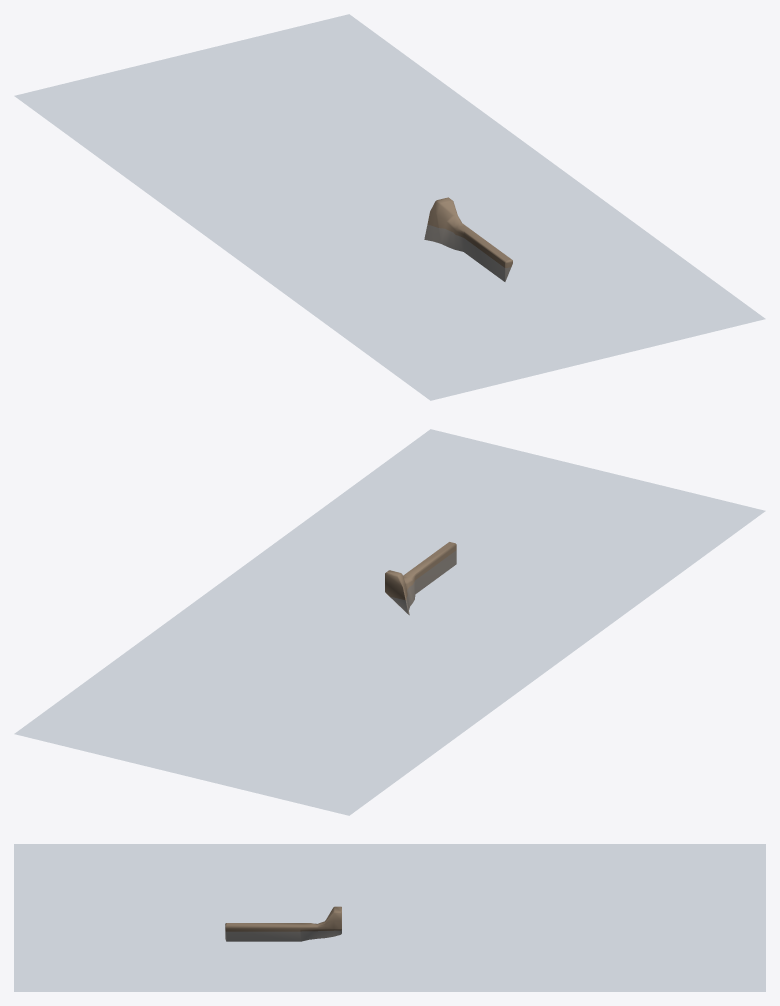
The model's file is water and land.fbx.
3 renders of one model, top to bottom at view 1: azimuth 30°, elevation 25°; view 2: azimuth 150°, elevation 25°; view 3: azimuth 270°, elevation 25°, orthographic. The views are drawn at different scales.
Visible parts, largest first — view 1: Deep Water.009, Land.001; view 2: Deep Water.009, Land.001; view 3: Deep Water.009, Land.001.
Part boxes in pixels (x1,y1,x2,y2): Deep Water.009: (15,14,764,400); Land.001: (424,197,512,281); Deep Water.009: (15,429,764,815); Land.001: (385,542,456,615); Deep Water.009: (14,844,765,991); Land.001: (225,906,341,941).
Bounding box in the file's own units: 207 × 21.76 × 445.
